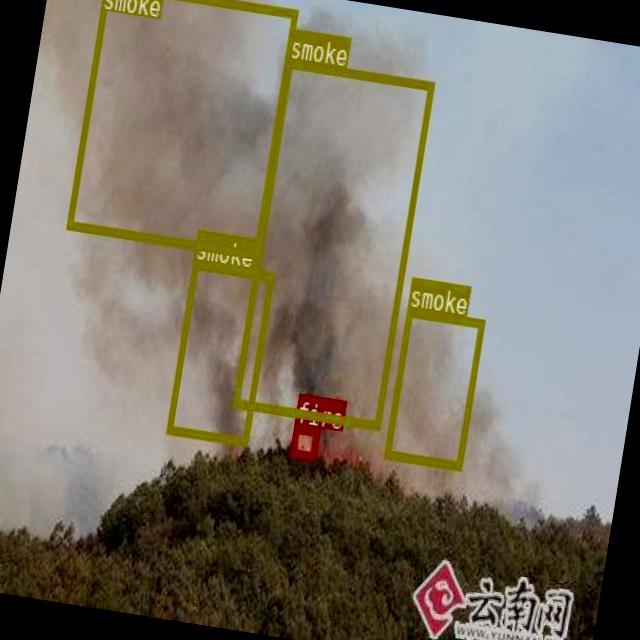fire: (289, 423, 319, 459)
smoke: (232, 56, 434, 428), (65, 0, 297, 258), (164, 258, 274, 446), (383, 307, 484, 469)
